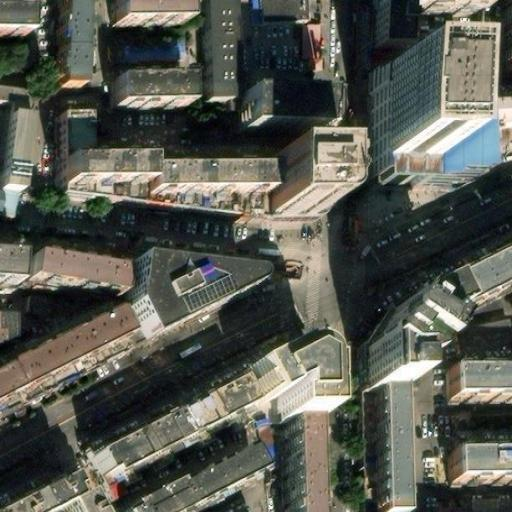building: (96, 388, 252, 487), (0, 321, 130, 413), (144, 261, 274, 340), (120, 448, 259, 512), (357, 276, 431, 380), (416, 62, 473, 185), (427, 252, 512, 325), (243, 350, 320, 419), (366, 76, 417, 168), (33, 262, 127, 299), (247, 91, 332, 130), (143, 172, 266, 198), (273, 164, 331, 219), (204, 0, 235, 102), (370, 424, 399, 512), (110, 65, 186, 98), (449, 445, 512, 484), (52, 0, 76, 97), (59, 162, 143, 188), (7, 108, 35, 185), (114, 38, 184, 66), (461, 361, 512, 399), (59, 114, 87, 164), (299, 461, 323, 512), (480, 113, 512, 144), (0, 1, 35, 25), (0, 307, 25, 340), (468, 496, 511, 512), (0, 255, 18, 289), (63, 496, 88, 512)
